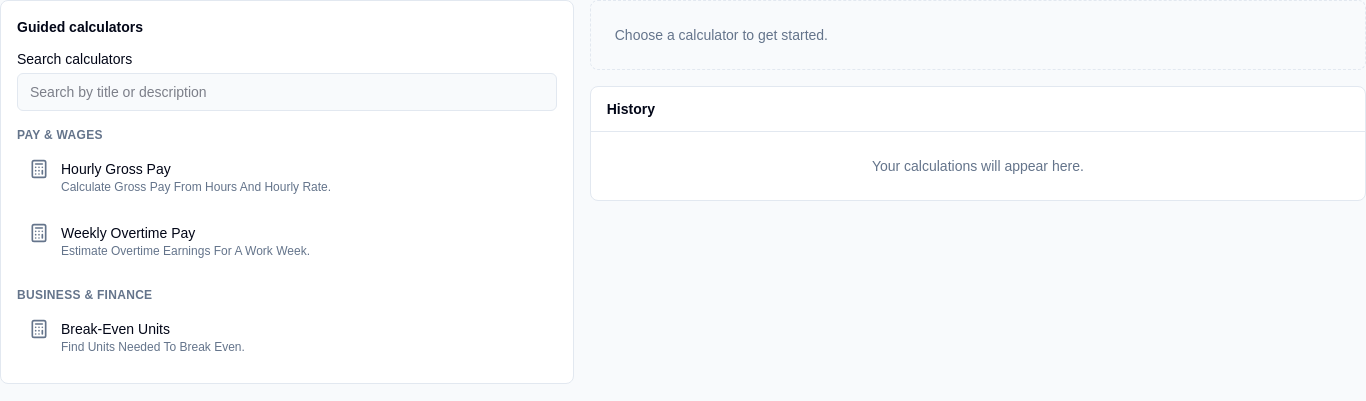
MhdGuidedCalculator › filters templates by title and description
In the field labelled "Search calculators": (287, 92) x1=17 y1=73 x2=557 y2=111, type "overtime"
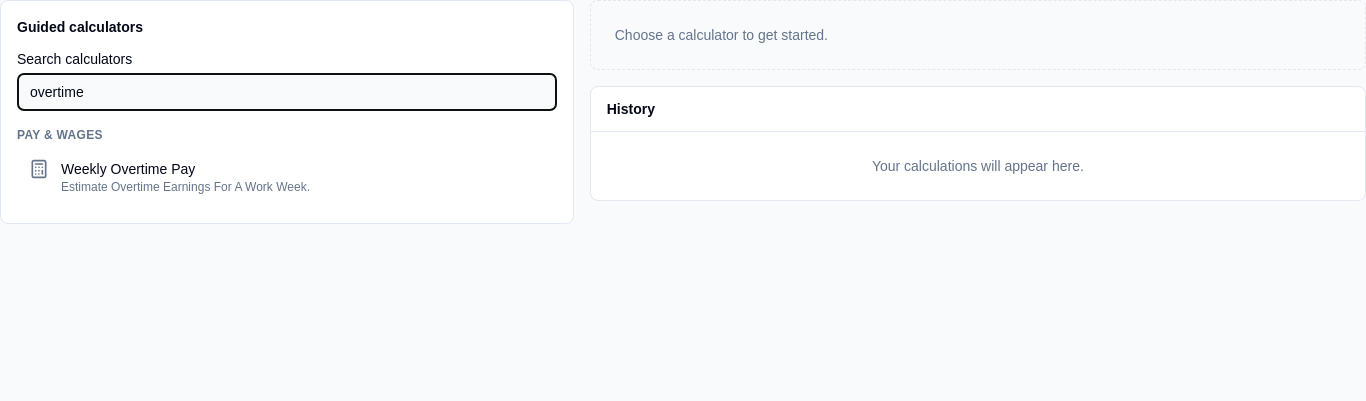
Expected: the button "Weekly Overtime Pay" is shown, x1=17 y1=147 x2=557 y2=207
Now the button "Hourly Gross Pay" is gone
